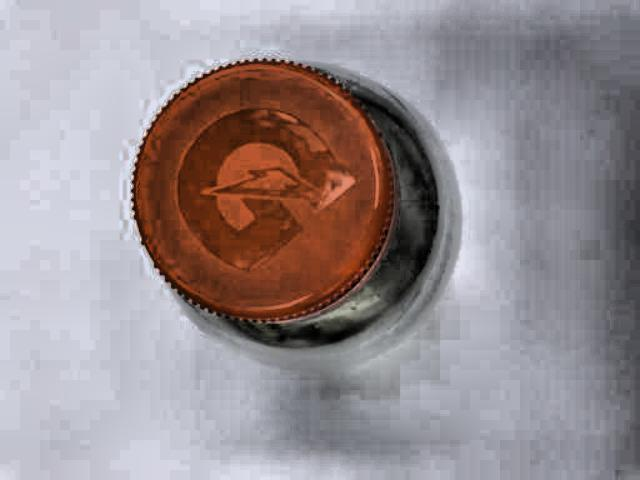Bottles: (127, 45, 468, 373)
